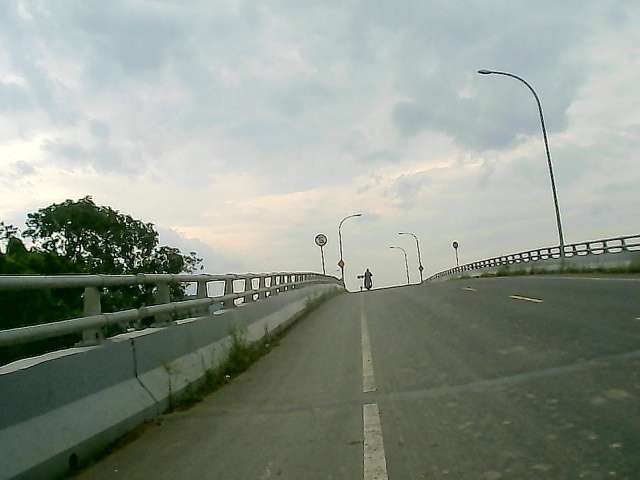Dilarang berhenti: (312, 230, 329, 248)
